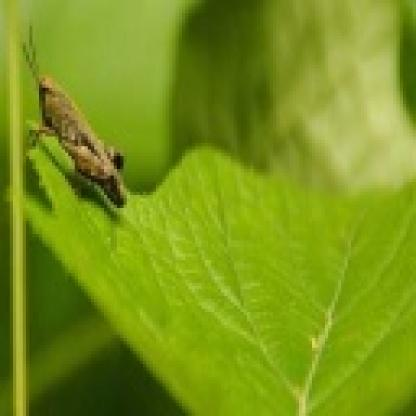grasshopper: (14, 45, 129, 216)
